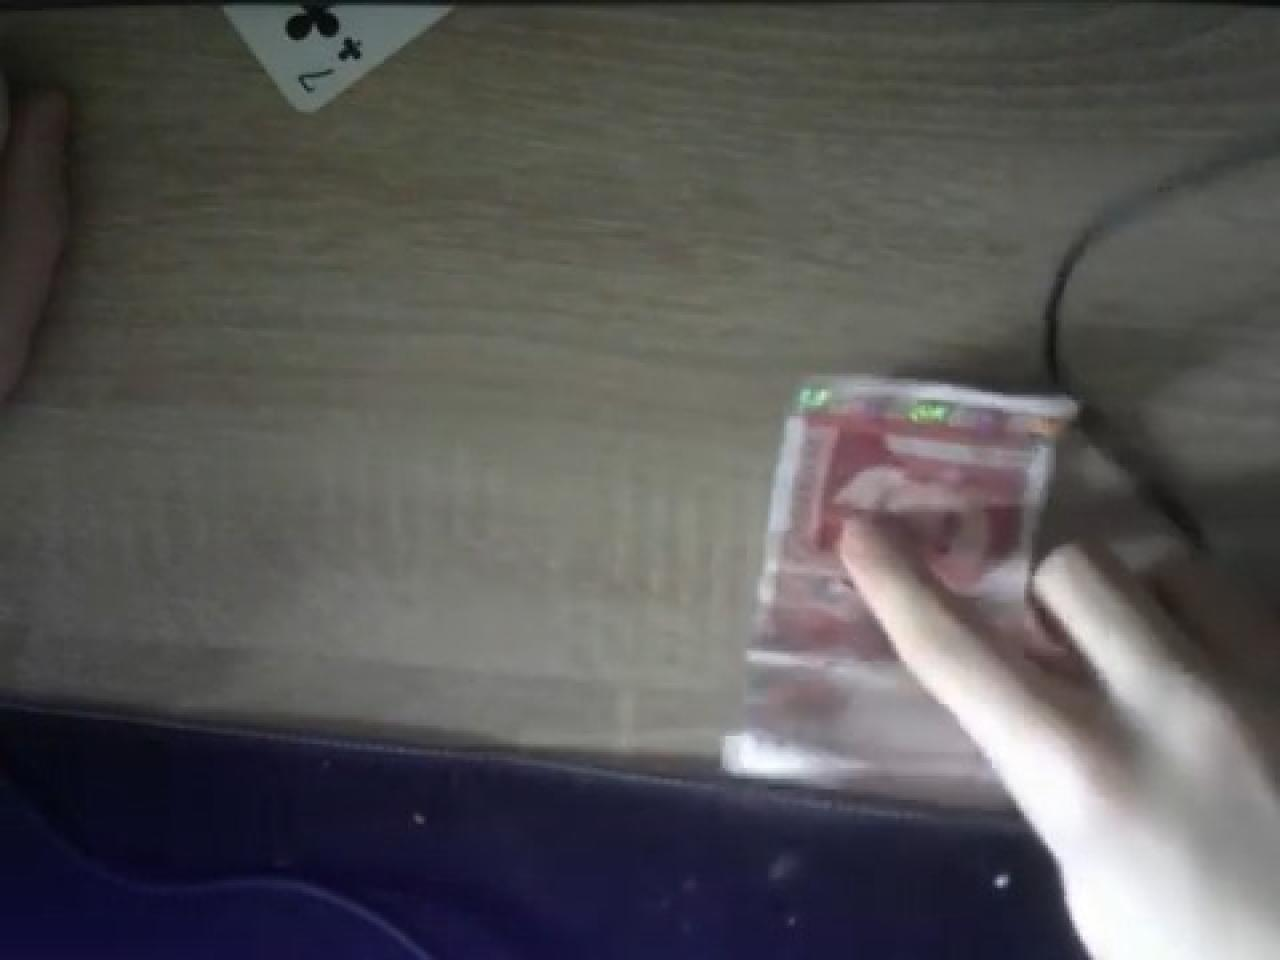5leva: (720, 373, 1280, 960)
